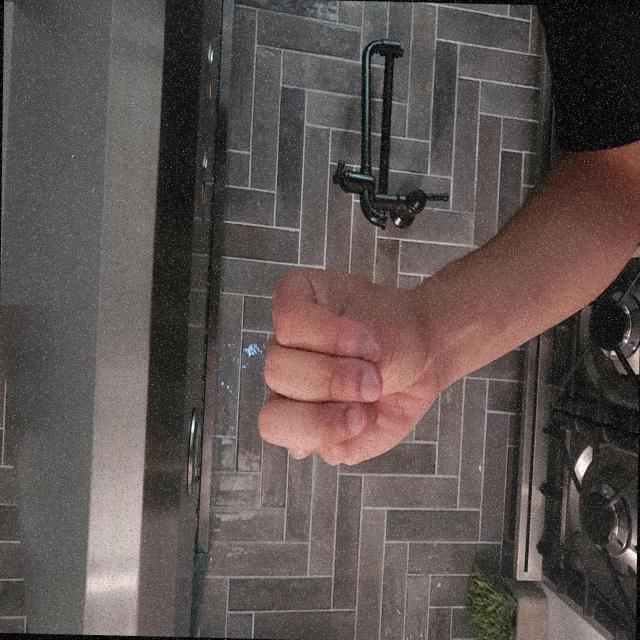M: (122, 336, 282, 594)
